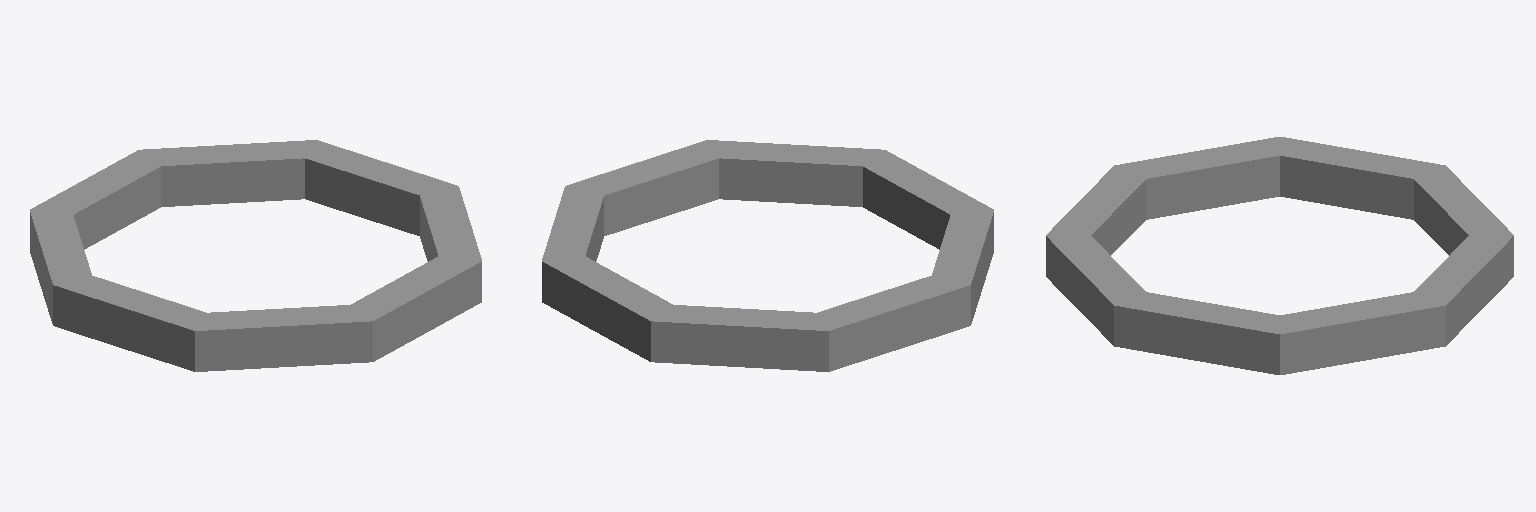
The model's file is ring2.obj.
3 renders of one model, left to right at view 1: azimuth 30°, elevation 25°; view 2: azimuth 150°, elevation 25°; view 3: azimuth 270°, elevation 25°, orthographic.
Parts seen in each view (by area): view 1: Ring02.001; view 2: Ring02.001; view 3: Ring02.001.
Part boxes in pixels (x1,y1,x2,y2): Ring02.001: (30, 140, 481, 371); Ring02.001: (542, 140, 993, 371); Ring02.001: (1046, 137, 1513, 374).
Bounding box in the file's own units: 0.5848 × 0.0564 × 0.5848.